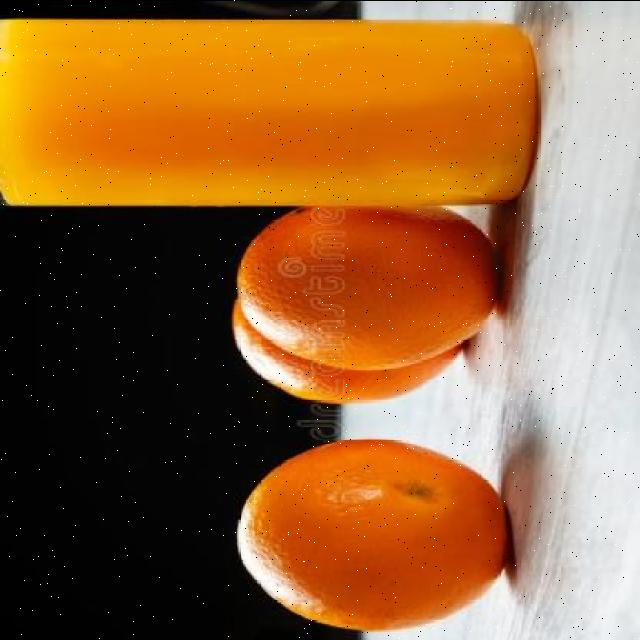Orange: (234, 438, 511, 632), (234, 205, 498, 372), (230, 297, 467, 405)
